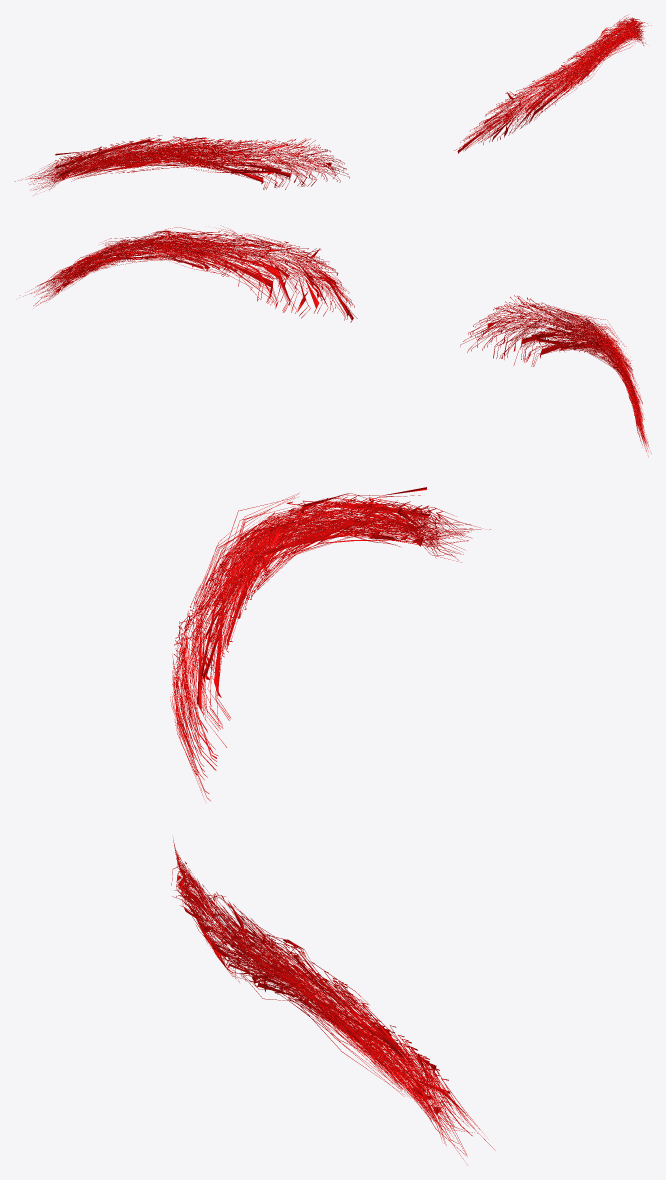
Rendered from mindfront_eyebrows_06_F.glb.
The picture shows the model from 3 angles, top to bottom: view 1: azimuth 30°, elevation 25°; view 2: azimuth 150°, elevation 25°; view 3: azimuth 270°, elevation 25°; orthographic projection. The views are drawn at different scales.
Bounding box in the file's own units: 0.1252 × 0.0142 × 0.0277.
1 material, 1 textured.
